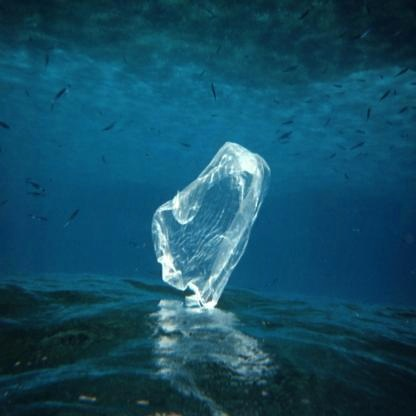pbag: (146, 136, 278, 312)
